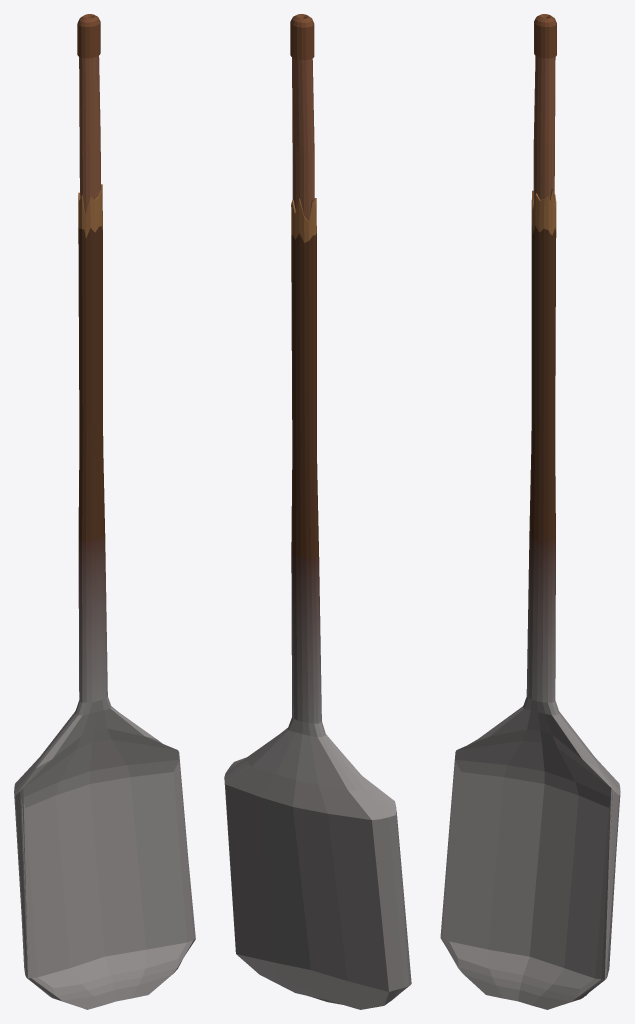
File: stone_shovel.glb
The picture shows the model from 3 angles, left to right: view 1: azimuth 30°, elevation 25°; view 2: azimuth 150°, elevation 25°; view 3: azimuth 330°, elevation 25°; orthographic projection. The views are drawn at different scales.
Visible parts, largest first — view 1: WoodenShovel; view 2: WoodenShovel; view 3: WoodenShovel.
Part boxes in pixels (box(x1,y1,x2,y2)): WoodenShovel: box(14, 14, 195, 1009); WoodenShovel: box(224, 14, 411, 1009); WoodenShovel: box(440, 14, 620, 1009).
Size of the model in its own units: 0.1801 by 1 by 0.0712.
